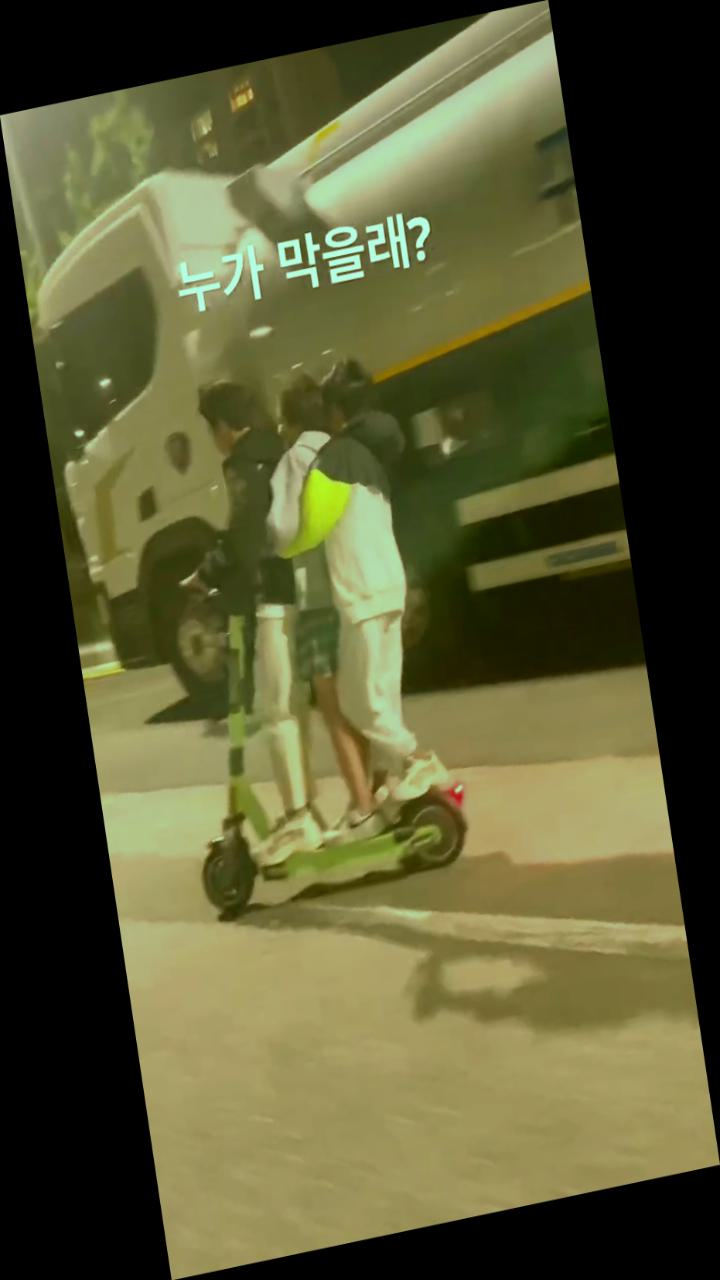multiple: (128, 335, 481, 924)
